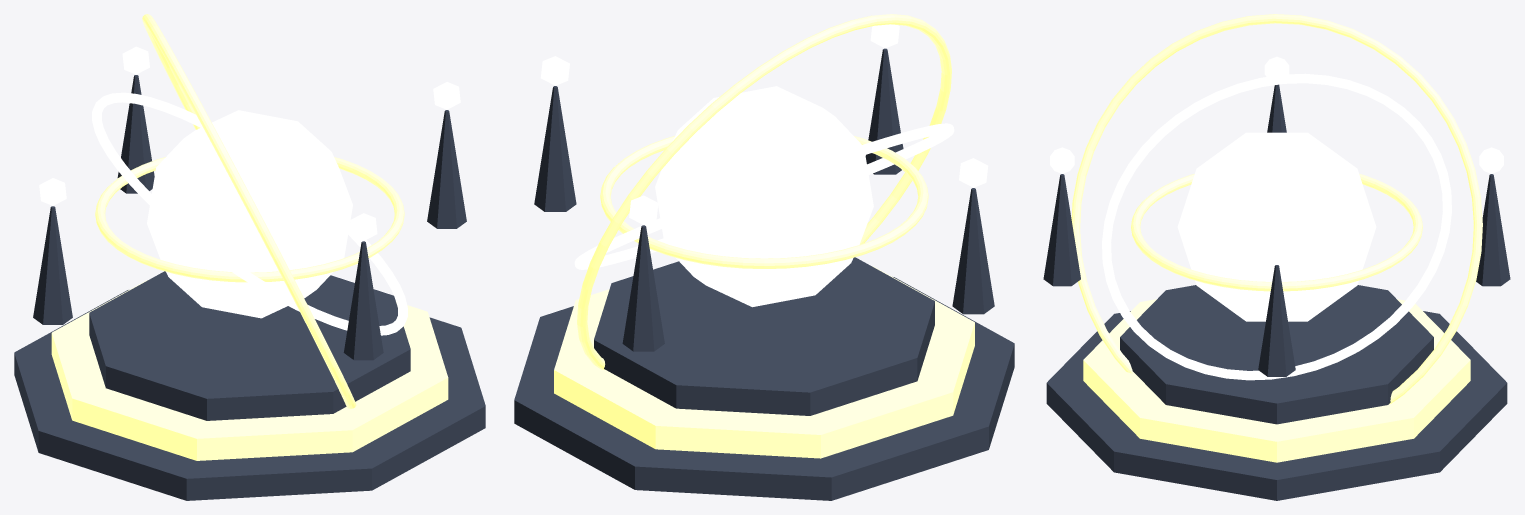
The model's file is gpu-blender-v41.glb.
3 renders of one model, left to right at view 1: azimuth 30°, elevation 25°; view 2: azimuth 150°, elevation 25°; view 3: azimuth 270°, elevation 25°, orthographic. The views are drawn at different scales.
Parts seen in each view (by area): view 1: Cylinder.002, SovereignCore_vision-gesture-control, Cylinder, Cylinder.001, Torus.001, Torus.002, Torus, Cone.003, Cone, Cone.002, Cone.001, Icosphere.002 (+3 smaller); view 2: Cylinder.002, SovereignCore_vision-gesture-control, Cylinder, Cylinder.001, Torus.002, Torus, Torus.001, Cone.002, Cone.001, Cone, Cone.003, Icosphere (+3 smaller); view 3: SovereignCore_vision-gesture-control, Cylinder.002, Cylinder, Cylinder.001, Torus.001, Torus.002, Torus, Cone.003, Cone, Cone.001, Cone.002, Icosphere (+2 smaller).
Part boxes in pixels (x1,y1,x2,y2): Cylinder.002: (89, 271, 410, 420); SovereignCore_vision-gesture-control: (147, 110, 352, 318); Cylinder: (14, 290, 485, 500); Cylinder.001: (51, 280, 448, 460); Torus.001: (92, 92, 407, 335); Torus.002: (142, 14, 356, 408); Torus: (95, 157, 404, 282); Cone.003: (343, 241, 383, 360); Cone: (427, 110, 466, 228); Cone.002: (33, 206, 72, 324); Cone.001: (117, 75, 154, 193); Icosphere.002: (39, 178, 66, 205); Cylinder.002: (594, 257, 934, 415); SovereignCore_vision-gesture-control: (655, 86, 873, 307); Cylinder: (514, 277, 1014, 500); Cylinder.001: (554, 266, 974, 458); Torus.002: (577, 14, 951, 369); Torus: (600, 136, 928, 268); Torus.001: (574, 123, 954, 269); Cone.002: (952, 188, 994, 314); Cone.001: (622, 225, 664, 351); Cone: (534, 86, 576, 211); Cone.003: (865, 48, 903, 174); Icosphere: (540, 56, 569, 85); SovereignCore_vision-gesture-control: (1177, 132, 1376, 321); Cylinder.002: (1120, 285, 1433, 424); Cylinder: (1046, 311, 1507, 500); Cylinder.001: (1083, 299, 1470, 462); Torus.001: (1102, 73, 1451, 380); Torus.002: (1071, 14, 1482, 403); Torus: (1131, 174, 1422, 291); Cone.003: (1043, 174, 1080, 286); Cone: (1258, 265, 1295, 376); Cone.001: (1476, 174, 1510, 286); Cone.002: (1267, 84, 1286, 132); Icosphere: (1264, 238, 1289, 264).
Size of the model in its own units: 4.41 by 3.72 by 4.46.
